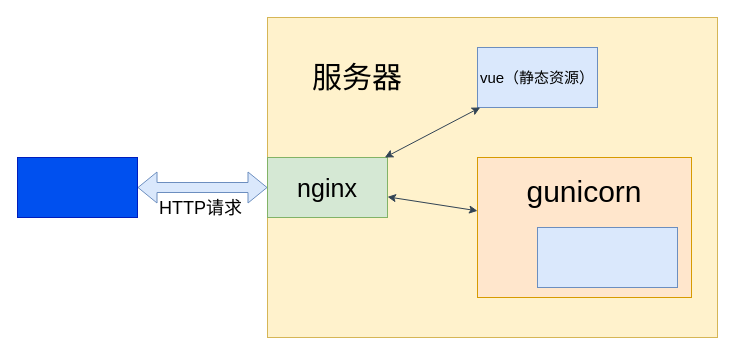
This 735x355 diagram has some shape labels left out. The shapes that lost their labels are listed below. From the top down, each one's box as (x1, y1, x2, y2) in pixels, then its label:
(16, 156, 138, 218): 客户端（浏览器）
(536, 226, 678, 288): django（动态资源）
